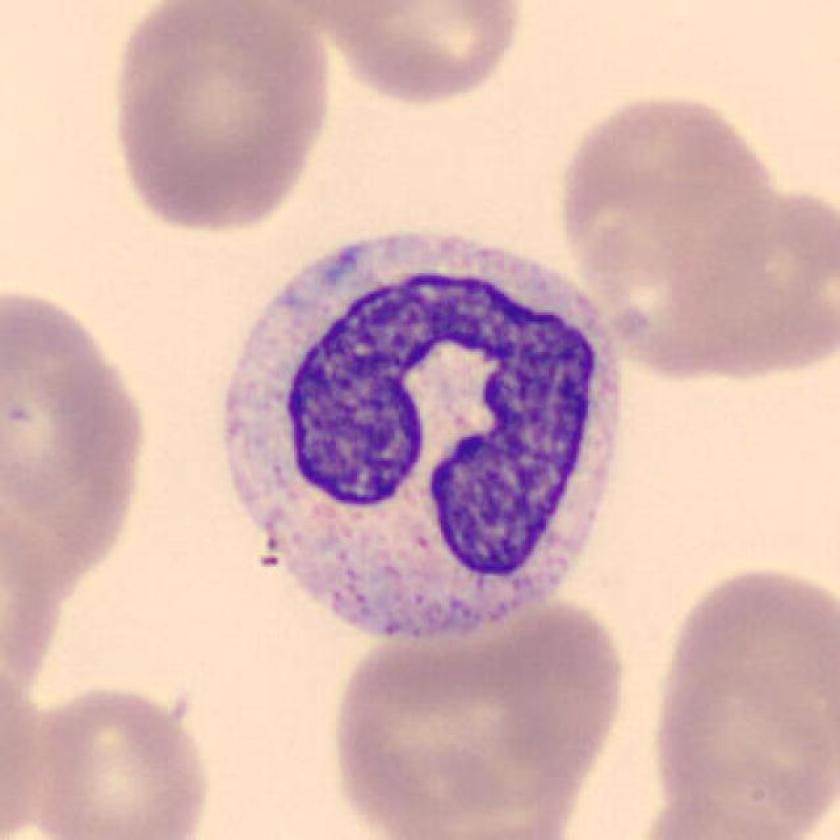neutrophil: (227, 234, 618, 641)
